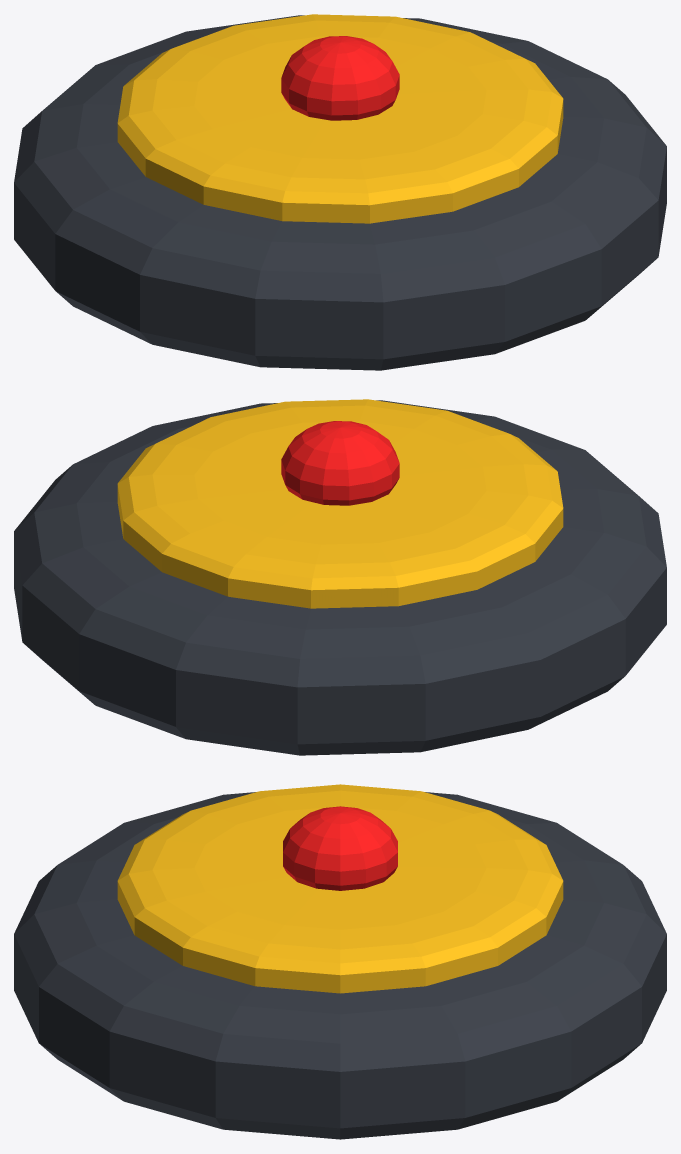
Rendered from mine.glb.
3 views of the same model, one above another, from view 1: azimuth 30°, elevation 25°; view 2: azimuth 150°, elevation 25°; view 3: azimuth 270°, elevation 25° (orthographic).
Visible parts, largest first — view 1: mine; view 2: mine; view 3: mine.
Boxes of the visible parts, x1=… form: mine: x1=14, y1=14, x2=666, y2=370; mine: x1=14, y1=399, x2=666, y2=755; mine: x1=14, y1=784, x2=666, y2=1139.
Bounding box in the file's own units: 0.4366 × 0.16 × 0.4366.
